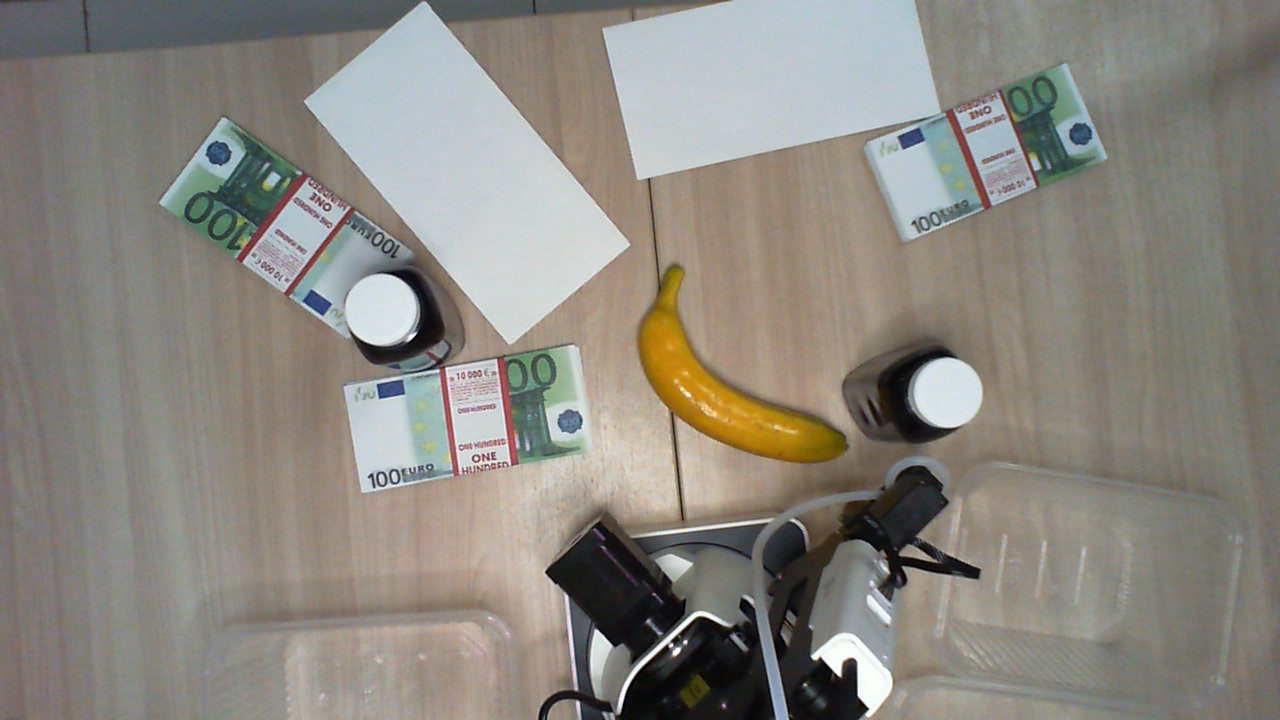banana: (635, 264, 848, 465)
bottle: (339, 267, 443, 370), (878, 347, 983, 442)
convert: (304, 2, 631, 345), (602, 1, 945, 186)
money: (160, 115, 416, 338), (863, 62, 1111, 241), (345, 345, 593, 494)
